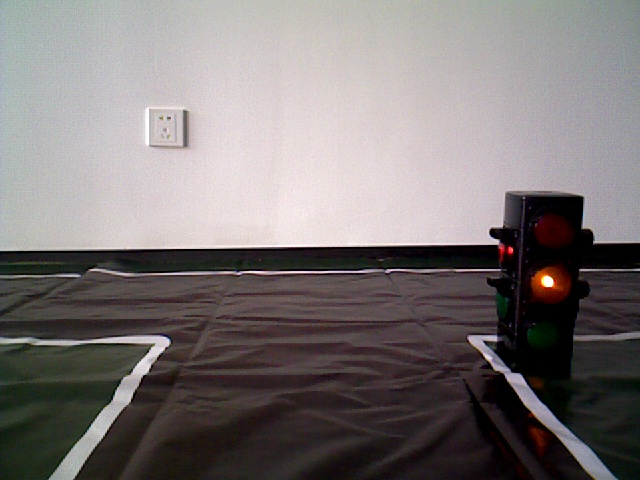yellow: (504, 194, 587, 357)
